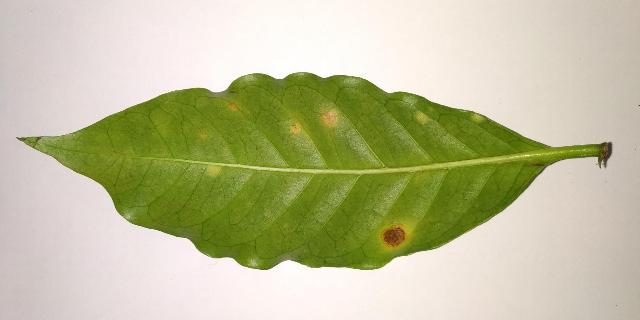miner: (380, 222, 414, 251), (320, 108, 339, 129), (290, 122, 303, 135), (418, 112, 426, 123), (210, 165, 219, 174), (472, 112, 481, 121), (230, 102, 239, 110)
